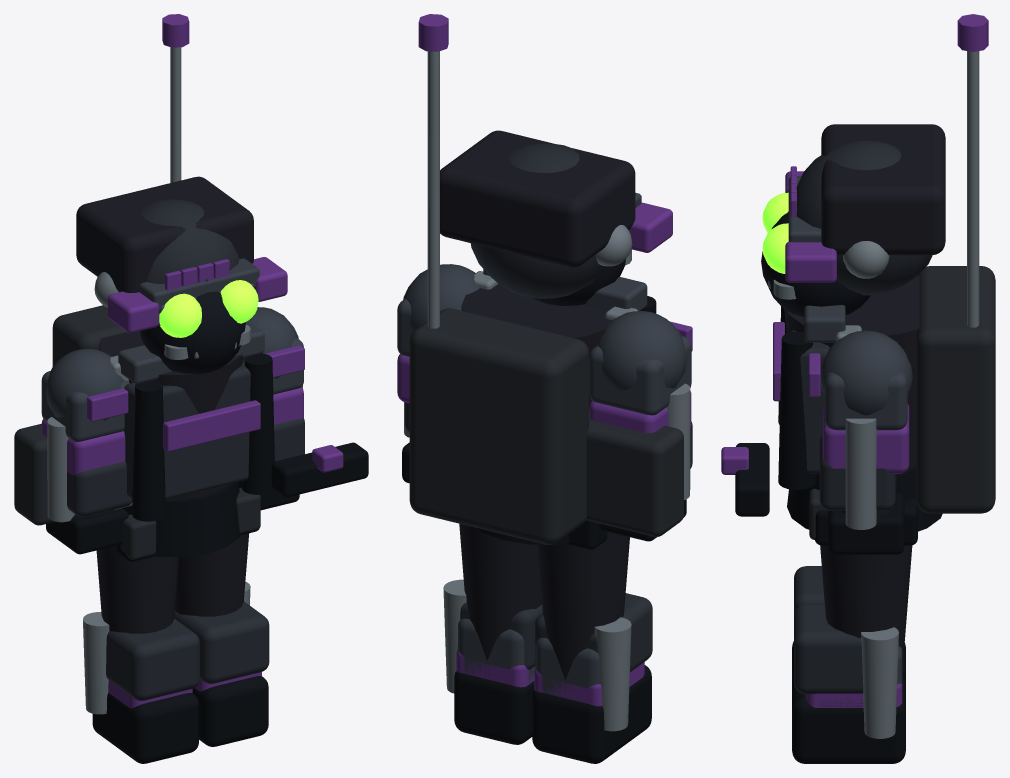
The model's file is recon_l04.glb.
3 views of the same model, side by side, from view 1: azimuth 30°, elevation 25°; view 2: azimuth 150°, elevation 25°; view 3: azimuth 270°, elevation 25° (orthographic). The views are drawn at different scales.
Parts seen in each view (by area): view 1: shaped_knee_guard (×2), hood, trouser (×2), boot (×2), vest_tether (×2), segmented_vest, waist_flex, shoulder_joint (×2), enclosed_mask, rounded_helmet, forearm_plate (×2), map_satchel (+20 smaller); view 2: field_pack, hood, trouser (×2), boot (×2), map_satchel, shoulder_joint (×2), rounded_helmet, shin_frame (×2), knee_plate (×2), body, shoulder_plate (×2), signal_mast (+10 smaller); view 3: field_pack, hood, trouser, shaped_knee_guard (×2), boot, rounded_helmet, shoulder_joint, body, vest_tether, shin_frame, signal_mast, forearm_seam (+20 smaller).
Part boxes in pixels (bbox=[...]): shaped_knee_guard (×2): bbox=[106, 601, 269, 700]; hood: bbox=[76, 176, 253, 292]; trouser (×2): bbox=[96, 533, 249, 633]; boot (×2): bbox=[92, 676, 268, 763]; vest_tether (×2): bbox=[132, 353, 274, 521]; segmented_vest: bbox=[124, 358, 250, 499]; waist_flex: bbox=[123, 482, 240, 556]; shoulder_joint (×2): bbox=[46, 307, 298, 420]; enclosed_mask: bbox=[140, 291, 245, 374]; rounded_helmet: bbox=[141, 199, 238, 283]; forearm_plate (×2): bbox=[67, 418, 304, 516]; map_satchel: bbox=[14, 423, 54, 525]; field_pack: bbox=[409, 308, 588, 544]; hood: bbox=[440, 130, 635, 267]; trouser (×2): bbox=[459, 523, 629, 679]; boot (×2): bbox=[454, 665, 651, 763]; map_satchel: bbox=[586, 412, 683, 536]; shoulder_joint (×2): bbox=[403, 264, 686, 391]; rounded_helmet: bbox=[470, 143, 606, 298]; shin_frame (×2): bbox=[443, 579, 631, 731]; knee_plate (×2): bbox=[457, 618, 600, 699]; body: bbox=[461, 284, 611, 411]; shoulder_plate (×2): bbox=[397, 298, 691, 415]; signal_mast: bbox=[427, 51, 439, 328]; field_pack: bbox=[916, 266, 995, 513]; hood: bbox=[821, 124, 945, 255]; trouser: bbox=[820, 545, 912, 670]; shaped_knee_guard (×2): bbox=[794, 566, 863, 694]; boot: bbox=[792, 676, 905, 763]; rounded_helmet: bbox=[790, 140, 932, 295]; shoulder_joint: bbox=[820, 330, 912, 415]; body: bbox=[784, 275, 919, 468]; vest_tether: bbox=[778, 332, 816, 489]; shin_frame: bbox=[861, 627, 898, 738]; signal_mast: bbox=[967, 51, 979, 327]; forearm_seam: bbox=[845, 418, 876, 529].
Size of the model in its own units: 1.02 by 2.36 by 0.795.
